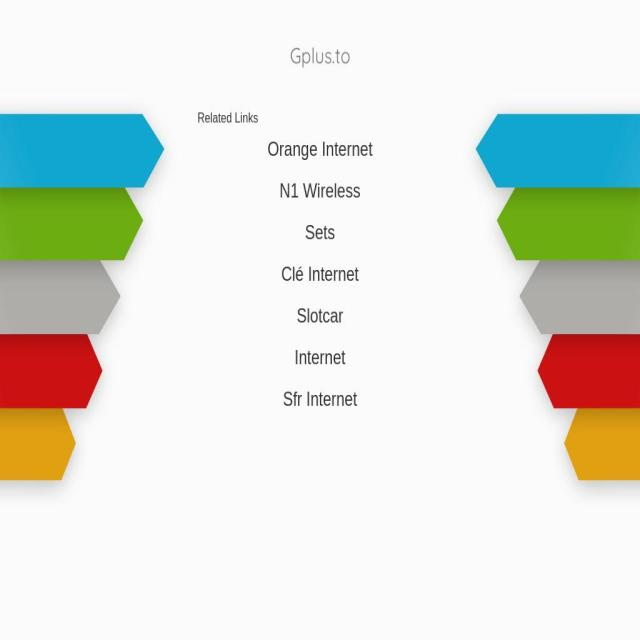iframe: (195, 111, 445, 414)
text: (0, 0, 640, 111)
